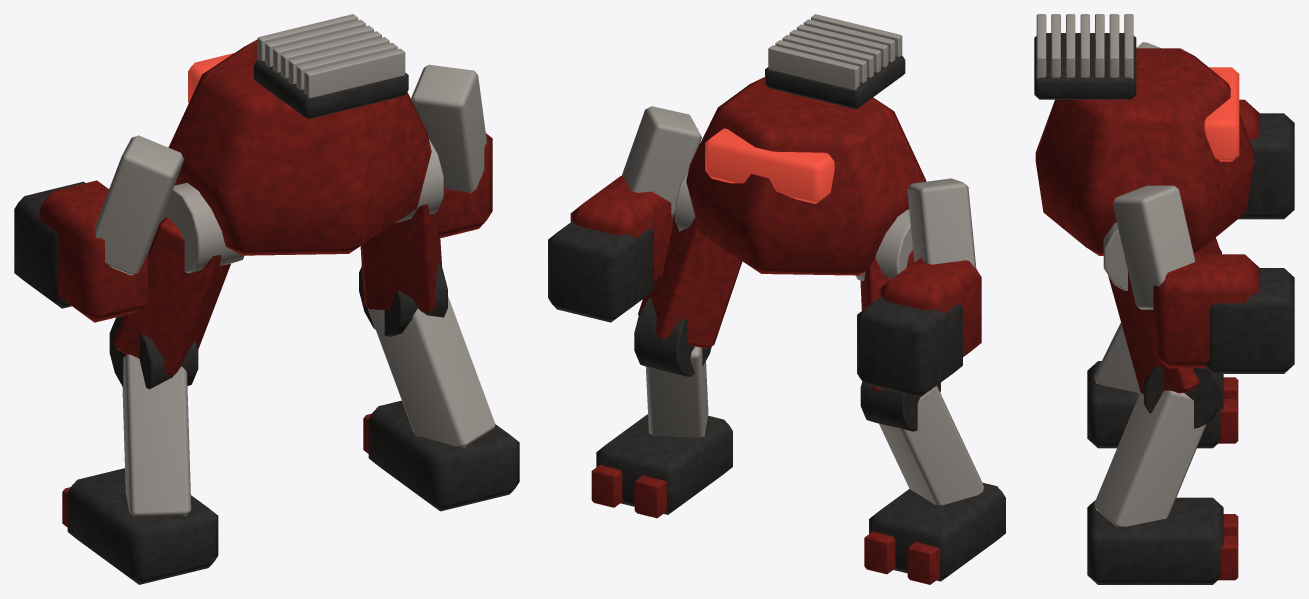
File: kharn_cogneur.gltf
The picture shows the model from 3 angles, left to right: view 1: azimuth 30°, elevation 25°; view 2: azimuth 150°, elevation 25°; view 3: azimuth 270°, elevation 25°; orthographic projection. The views are drawn at different scales.
Visible parts, largest first — view 1: Body_Geometry, Arm_-1.001_Geometry, Knee_R0_Geometry, Hip_L0_Geometry, Knee_L0_Geometry, Foot_L0_Geometry, Foot_R0_Geometry, Arm_1.001_Geometry, Hip_R0_Geometry; view 2: Body_Geometry, Arm_-1.001_Geometry, Arm_1.001_Geometry, Foot_R0_Geometry, Foot_L0_Geometry, Knee_L0_Geometry, Hip_R0_Geometry, Knee_R0_Geometry, Hip_L0_Geometry; view 3: Body_Geometry, Arm_1.001_Geometry, Knee_R0_Geometry, Foot_R0_Geometry, Arm_-1.001_Geometry, Foot_L0_Geometry, Hip_R0_Geometry, Knee_L0_Geometry.
Part boxes in pixels (box(x1,y1,x2,y2)): Body_Geometry: box(168, 14, 431, 255); Arm_-1.001_Geometry: box(14, 135, 184, 322); Knee_R0_Geometry: box(359, 262, 495, 447); Hip_L0_Geometry: box(113, 182, 244, 375); Knee_L0_Geometry: box(109, 315, 198, 516); Foot_L0_Geometry: box(62, 468, 218, 584); Foot_R0_Geometry: box(363, 400, 519, 511); Arm_1.001_Geometry: box(411, 64, 492, 238); Hip_R0_Geometry: box(360, 138, 443, 312); Body_Geometry: box(686, 14, 926, 275); Arm_-1.001_Geometry: box(857, 178, 981, 397); Arm_1.001_Geometry: box(548, 106, 701, 322); Foot_R0_Geometry: box(591, 414, 732, 518); Foot_L0_Geometry: box(864, 483, 1005, 584); Knee_L0_Geometry: box(860, 381, 983, 505); Hip_R0_Geometry: box(638, 170, 742, 348); Knee_R0_Geometry: box(634, 298, 711, 437); Hip_L0_Geometry: box(856, 209, 931, 391); Body_Geometry: box(1034, 14, 1253, 255); Arm_1.001_Geometry: box(1113, 185, 1294, 373); Knee_R0_Geometry: box(1094, 366, 1221, 526); Foot_R0_Geometry: box(1087, 497, 1238, 584); Arm_-1.001_Geometry: box(1136, 42, 1294, 219); Foot_L0_Geometry: box(1087, 361, 1238, 448); Hip_R0_Geometry: box(1103, 222, 1199, 394); Knee_L0_Geometry: box(1094, 249, 1221, 393).
Bounding box in the file's own units: 2.12 × 2.41 × 1.22.
Materials: 4 (2 with a texture image).
